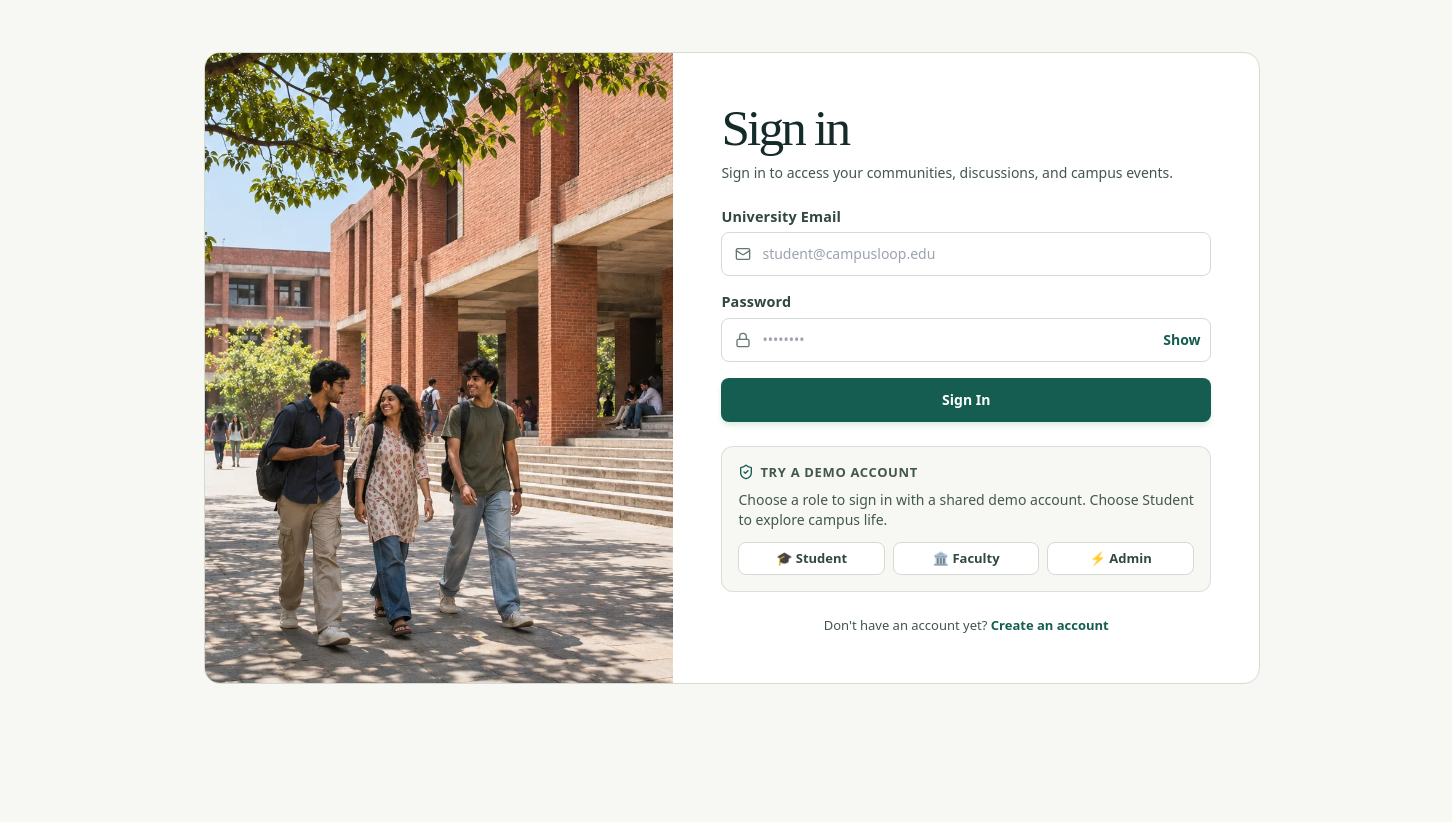
Test: Login page › signs in with typed credentials and redirects to dashboard
In the field labelled "University Email": (966, 254) [721,232,1211,276], type "alex@campusloop.edu"
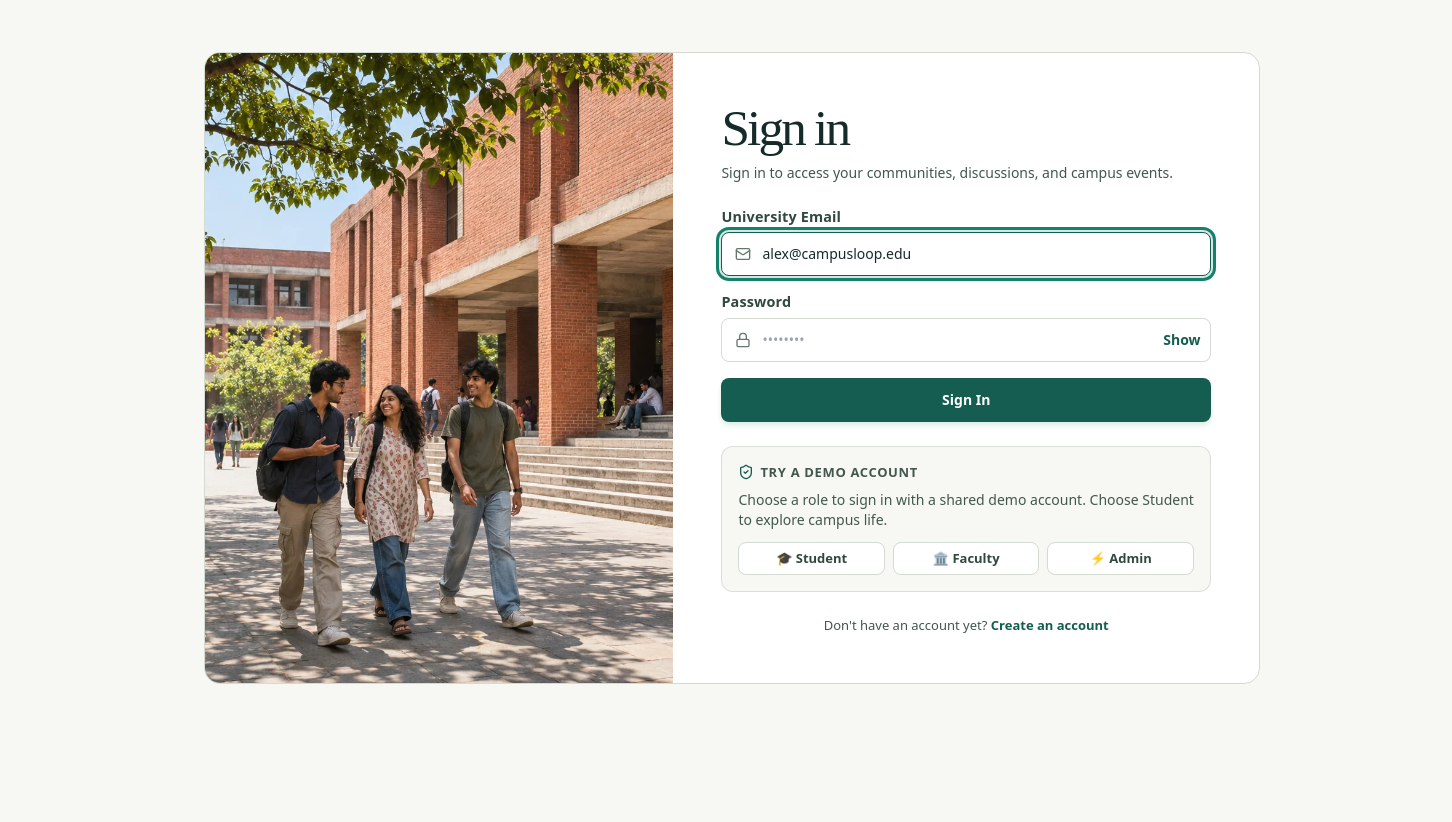
In the password field labelled "Password": (966, 340) [721,318,1211,362], type "Secret@123"
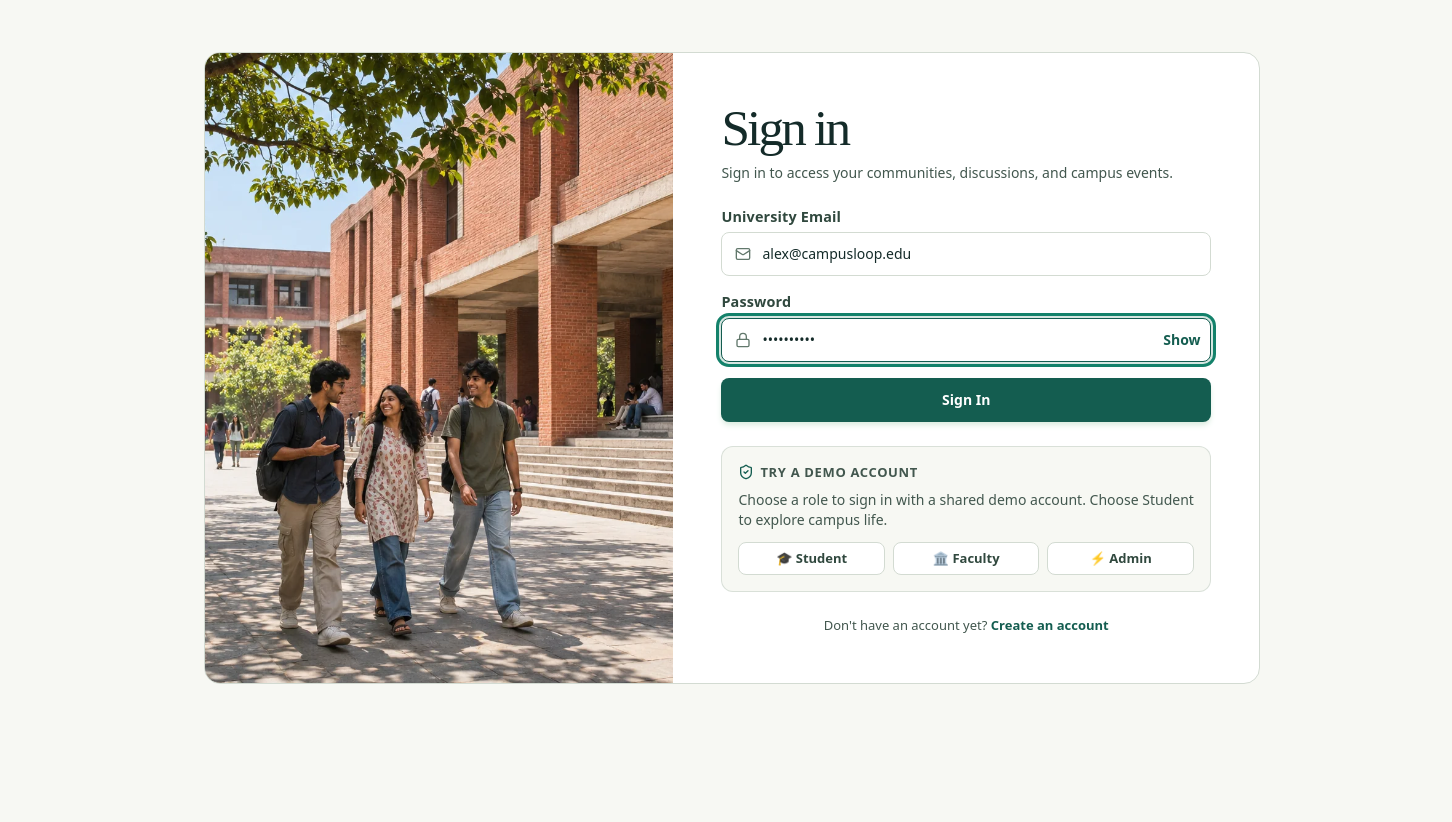
Click the button "Sign In": (966, 400) [721,378,1211,422]
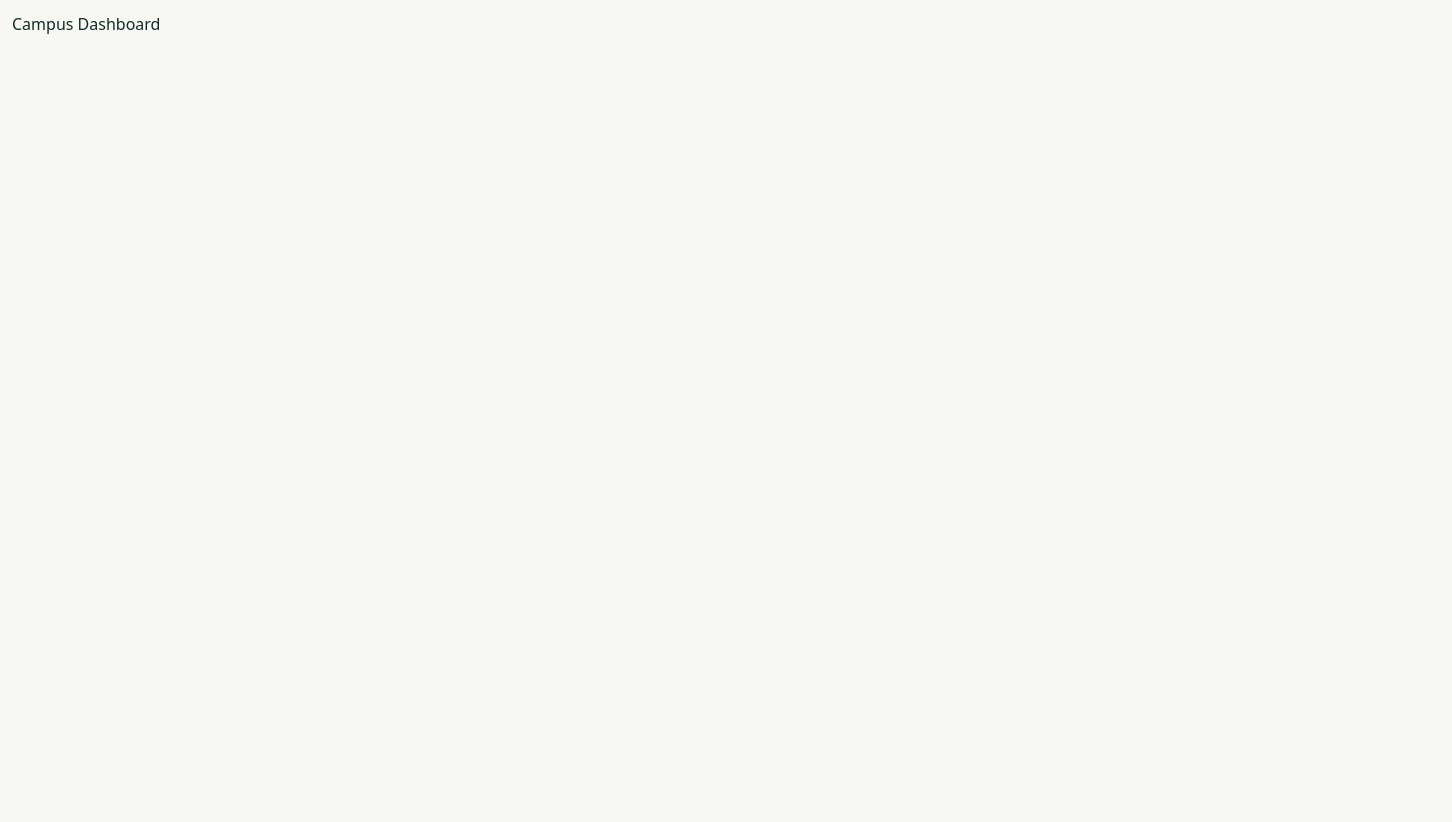
Expected: the text "Campus Dashboard" is shown, [12,13,160,35]
